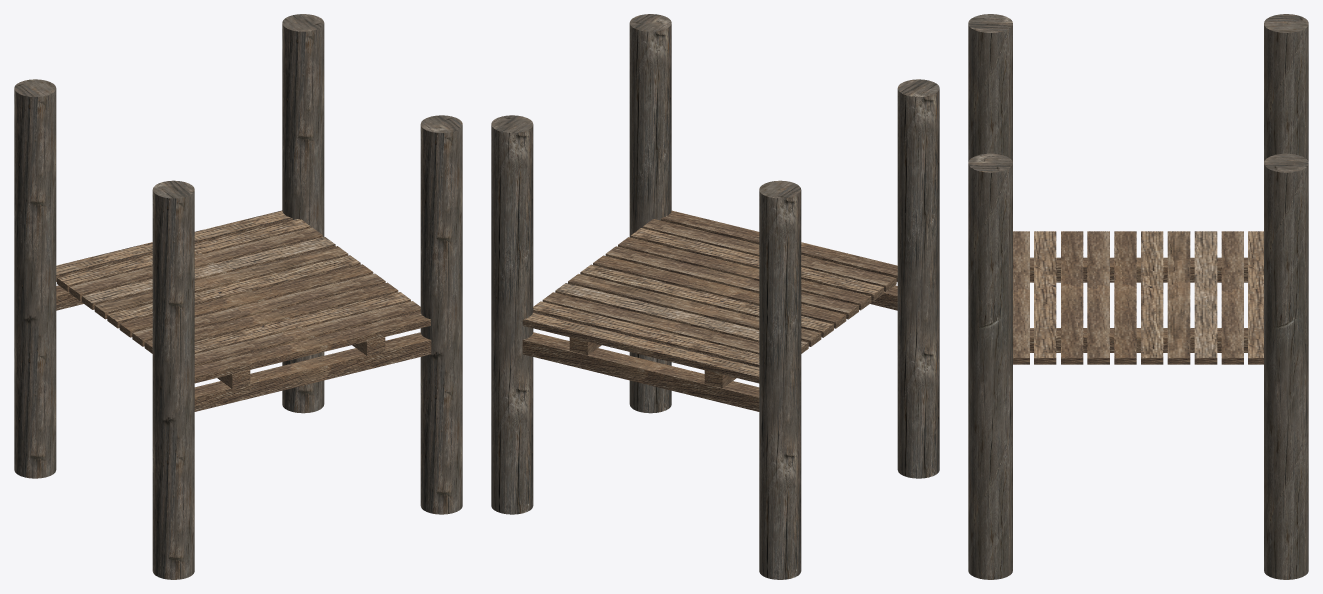
File: plataforma madera .fbx
3 views of the same model, side by side, from view 1: azimuth 30°, elevation 25°; view 2: azimuth 150°, elevation 25°; view 3: azimuth 270°, elevation 25° (orthographic). The views are drawn at different scales.
Visible parts, largest first — view 1: Piso_4x4, Cylinder.001, Cylinder.003, Cylinder.002, Cylinder; view 2: Piso_4x4, Cylinder.003, Cylinder.001, Cylinder, Cylinder.002; view 3: Piso_4x4, Cylinder, Cylinder.002, Cylinder.001, Cylinder.003.
Boxes of the visible parts, x1,y1,x2,y2 form: Piso_4x4: (56, 210, 431, 411); Cylinder.001: (14, 79, 56, 478); Cylinder.003: (152, 180, 194, 579); Cylinder.002: (420, 115, 462, 514); Cylinder: (282, 14, 324, 413); Piso_4x4: (522, 210, 897, 411); Cylinder.003: (897, 79, 939, 478); Cylinder.001: (759, 180, 801, 579); Cylinder: (491, 115, 533, 514); Cylinder.002: (629, 14, 671, 413); Piso_4x4: (1013, 231, 1263, 364); Cylinder: (1264, 153, 1308, 579); Cylinder.002: (968, 153, 1012, 579); Cylinder.001: (1264, 14, 1308, 161); Cylinder.003: (968, 14, 1012, 161).
Bounding box in the file's own units: 501 × 600 × 455.
Materials: 3 (3 with a texture image).
